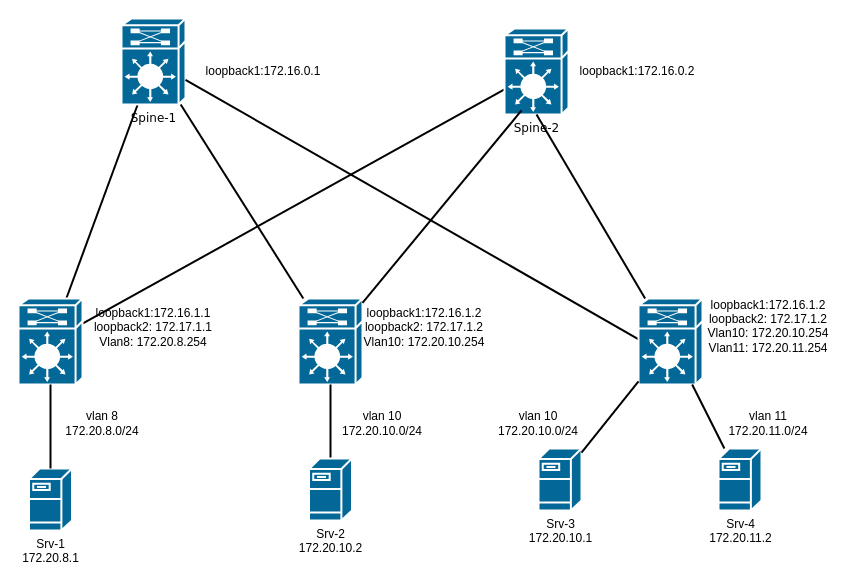
Some shapes in this 857 by 583 pixel diagram are drawn without their labels. The shapes that lost their labels are listed below. From the top down, each one's box as (x1, y1, x2, y2) in pixels, then its label:
(17, 297, 83, 385): Leaf-1
(297, 297, 363, 385): Leaf-2
(637, 297, 703, 385): Leaf-3
